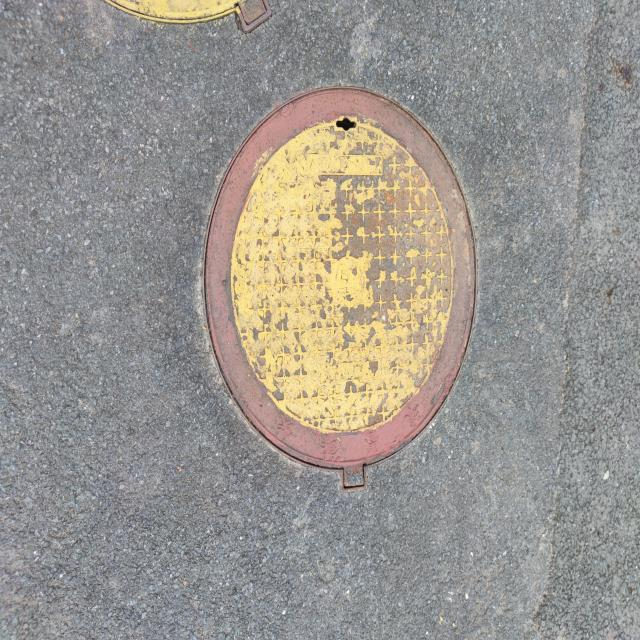Good: (201, 82, 485, 493)
